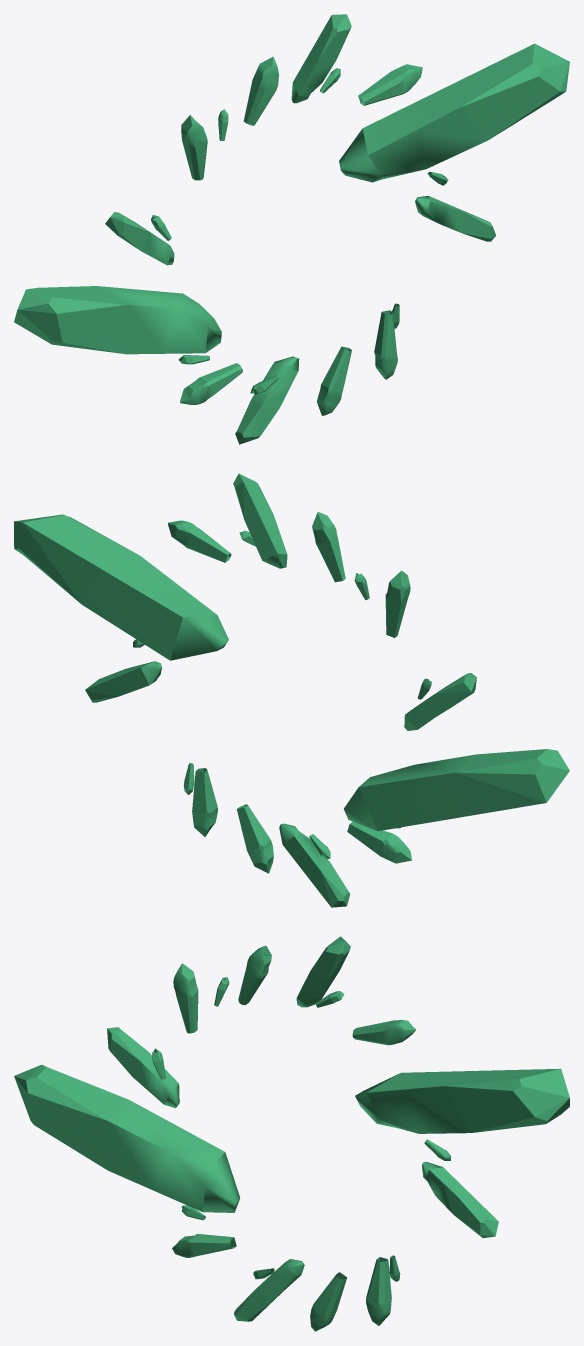
The model's file is Geode1_Crystals.fbx.
The picture shows the model from 3 angles, top to bottom: view 1: azimuth 30°, elevation 25°; view 2: azimuth 150°, elevation 25°; view 3: azimuth 330°, elevation 25°; orthographic projection.
Visible parts, largest first — view 1: pCube4group5, pCube4group6, pCube4group1, pCube4group2, pCube4group4, pCube4group3, group1pCube6, group1pCube3, group1pCube7, group1pCube5, group1pCube1, group1pCube4; view 2: pCube4group5, pCube4group6, pCube4group1, pCube4group2, pCube4group4, pCube4group3, group1pCube7, group1pCube5, group1pCube6, group1pCube4, group1pCube3, group1pCube1; view 3: pCube4group6, pCube4group5, pCube4group3, pCube4group4, pCube4group1, pCube4group2, group1pCube4, group1pCube1, group1pCube7, group1pCube3, group1pCube5, group1pCube6.
Boxes of the visible parts, x1,y1,x2,y2 form: pCube4group5: (339, 43, 569, 182); pCube4group6: (14, 286, 221, 354); pCube4group1: (291, 14, 351, 103); pCube4group2: (235, 356, 299, 444); pCube4group4: (415, 196, 495, 241); pCube4group3: (105, 212, 174, 265); group1pCube6: (243, 57, 278, 125); group1pCube3: (358, 64, 422, 105); group1pCube7: (317, 346, 351, 415); group1pCube5: (180, 363, 242, 404); group1pCube1: (181, 115, 207, 180); group1pCube4: (374, 310, 397, 379); pCube4group5: (14, 514, 228, 660); pCube4group6: (344, 749, 569, 831); pCube4group1: (233, 473, 287, 568); pCube4group2: (279, 823, 349, 907); pCube4group4: (85, 661, 161, 702); pCube4group3: (404, 673, 476, 730); group1pCube7: (236, 804, 273, 873); group1pCube5: (347, 822, 411, 863); group1pCube6: (312, 512, 345, 582); group1pCube4: (192, 768, 217, 836); group1pCube3: (168, 520, 231, 562); group1pCube1: (385, 570, 410, 637); pCube4group6: (14, 1064, 239, 1212); pCube4group5: (355, 1068, 569, 1133); pCube4group3: (107, 1027, 179, 1108); pCube4group4: (422, 1161, 498, 1237); pCube4group1: (296, 936, 350, 1007); pCube4group2: (234, 1259, 304, 1321); group1pCube4: (366, 1257, 391, 1325); group1pCube1: (173, 963, 198, 1033); group1pCube7: (310, 1272, 347, 1331); group1pCube3: (352, 1020, 415, 1045); group1pCube5: (172, 1233, 236, 1257); group1pCube6: (238, 945, 271, 1005).
Size of the model in its own units: 2620 by 1831 by 286.
